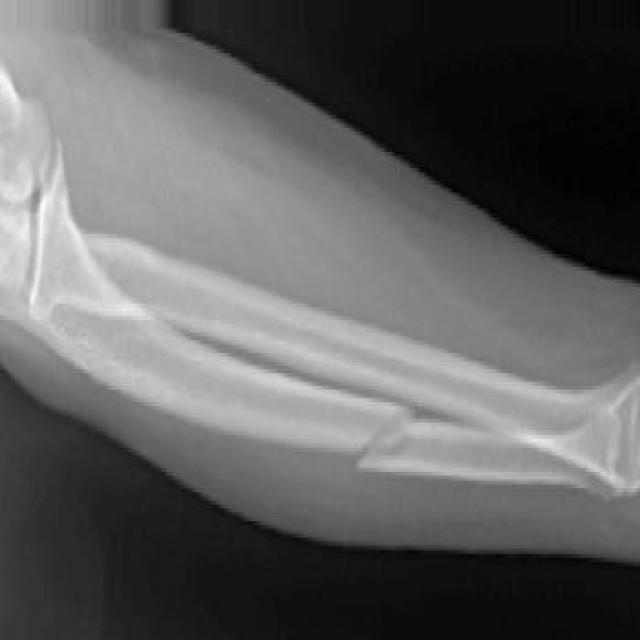Fracture: (353, 404, 400, 490)
